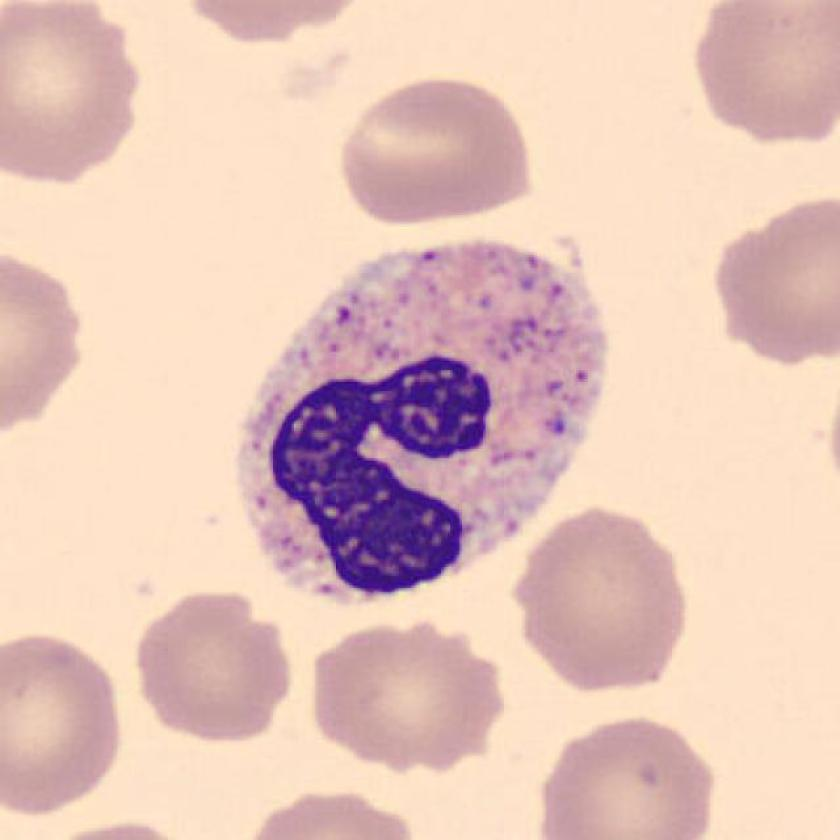neutrophil: (233, 236, 614, 605)
